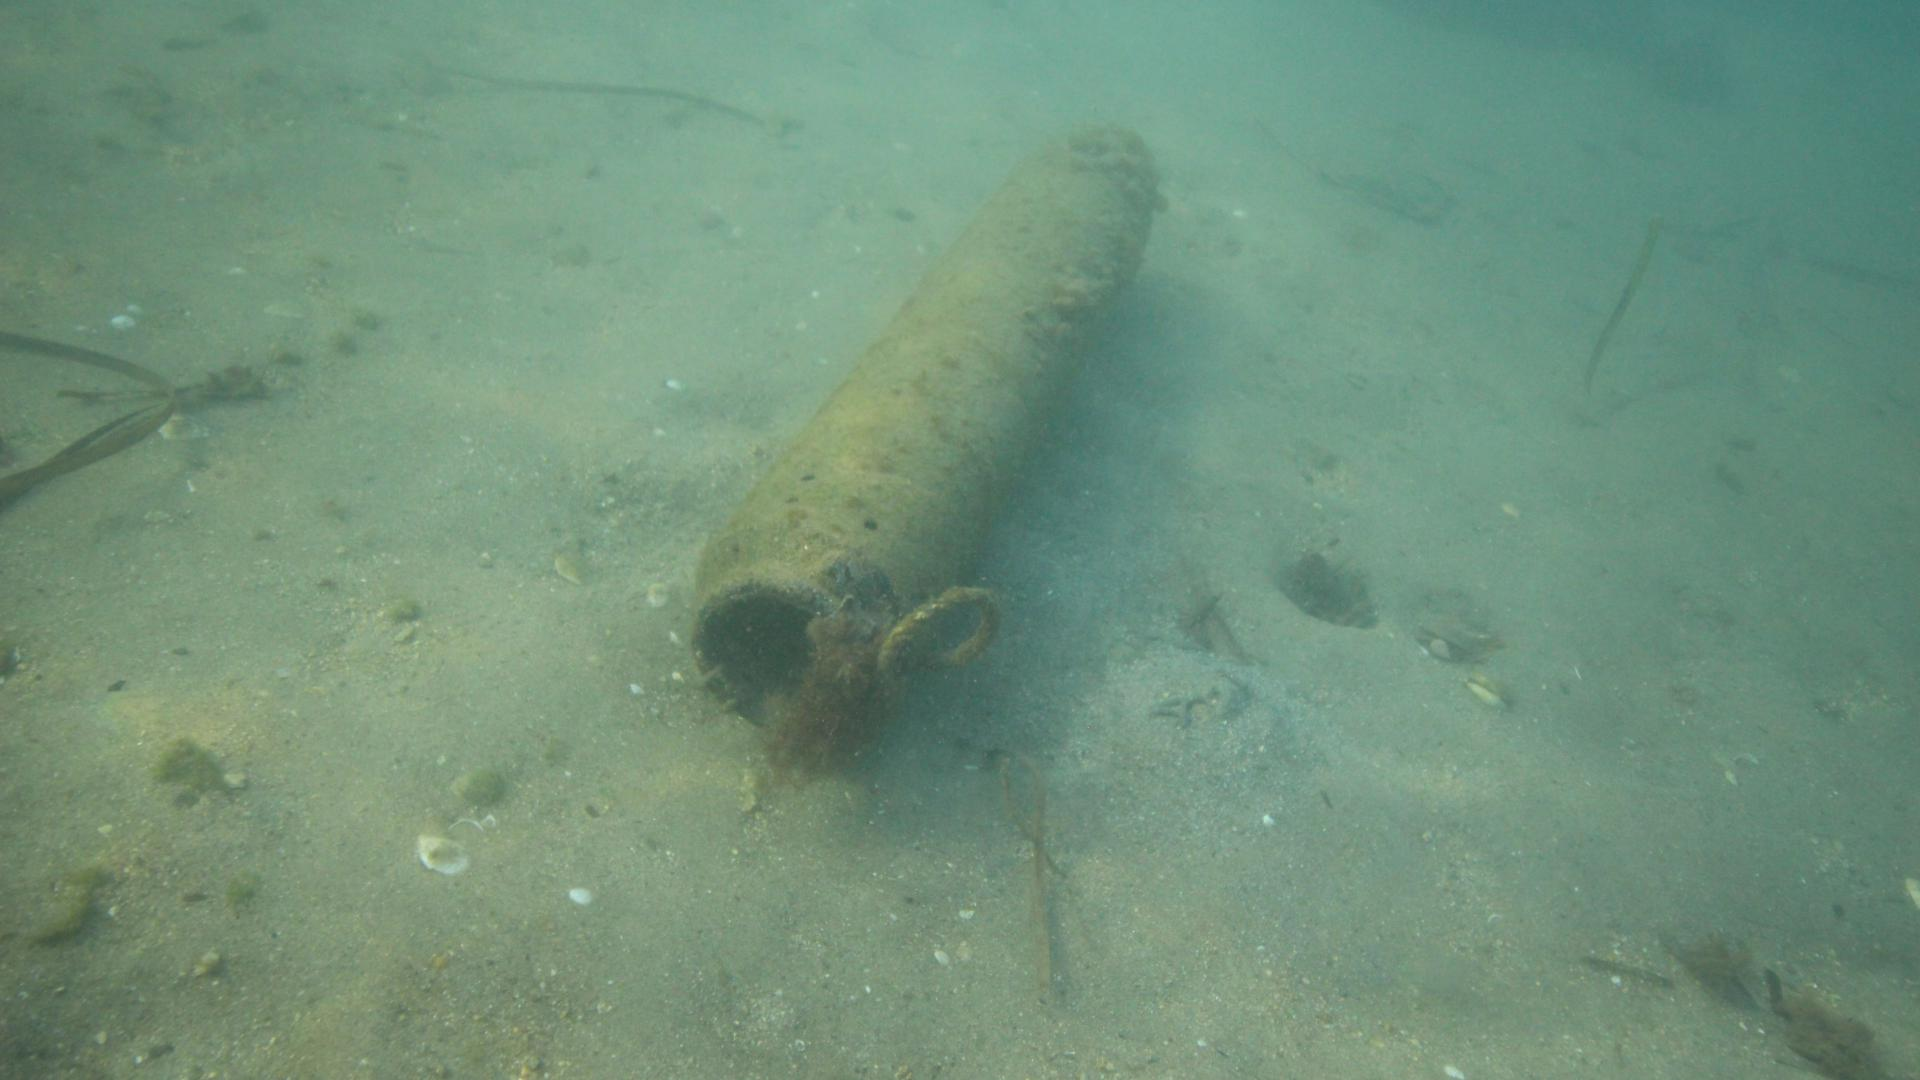eel fish trap: (688, 124, 1156, 732)
rope: (872, 582, 1004, 688)
